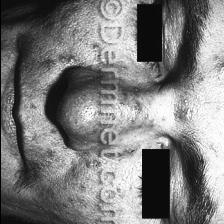Non-Cancerous Skin Condition: (0, 23, 94, 208), (130, 60, 224, 130)
